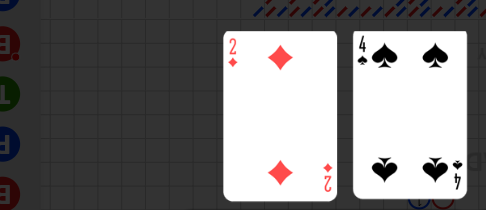2D: (227, 36, 239, 69)
4S: (451, 157, 464, 191)
